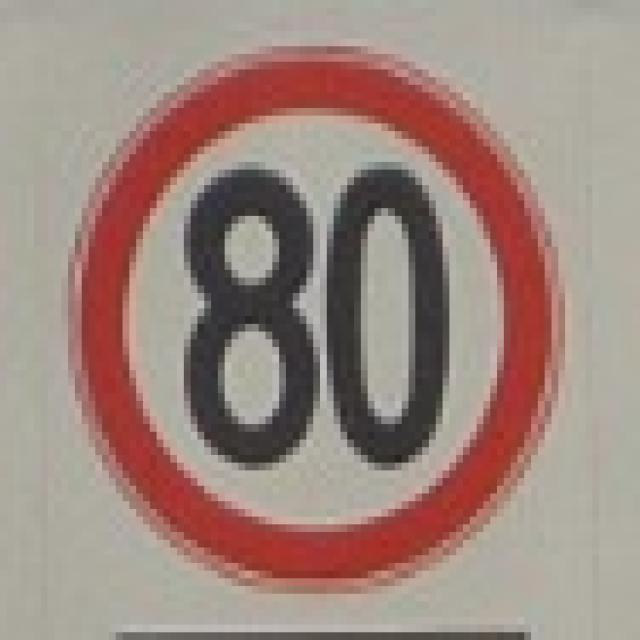Speed Limit -80-: (180, 164, 447, 471)
